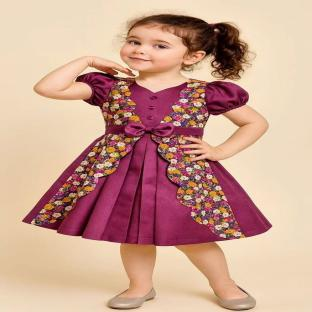Human: (23, 14, 271, 309)
